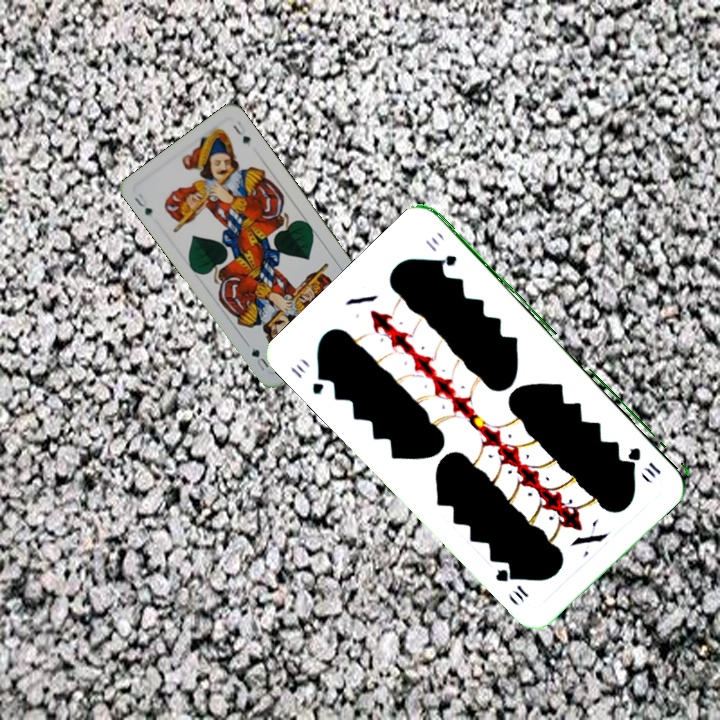G10: (286, 360, 332, 398), (625, 443, 664, 481)
GU: (130, 189, 155, 219)
